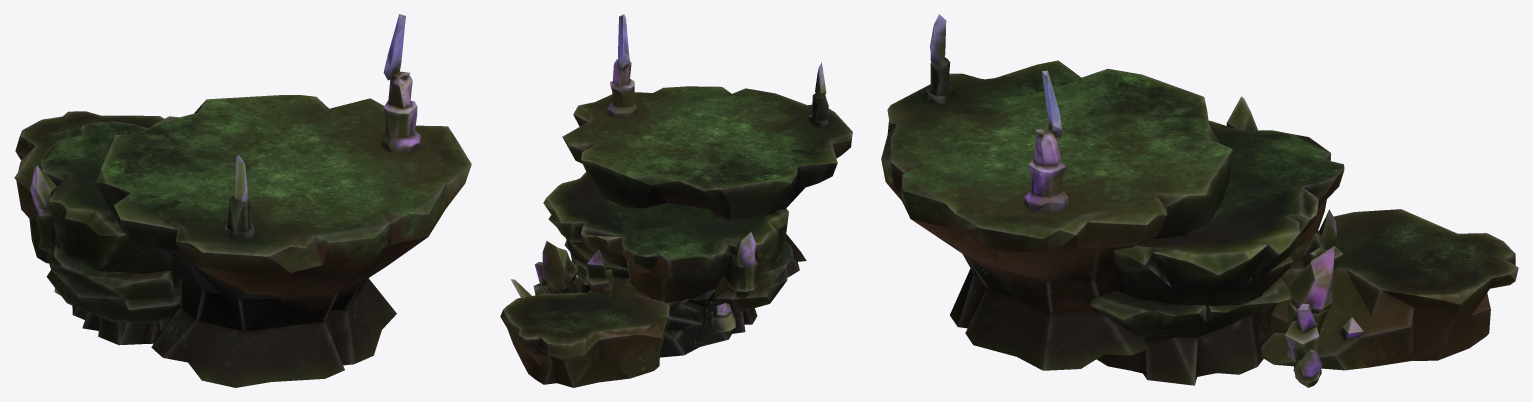
The model's file is FlooorPlatform6.fbx.
3 views of the same model, side by side, from view 1: azimuth 30°, elevation 25°; view 2: azimuth 150°, elevation 25°; view 3: azimuth 270°, elevation 25° (orthographic). The views are drawn at different scales.
Visible parts, largest first — view 1: FlooorPlatform.007; view 2: FlooorPlatform.007; view 3: FlooorPlatform.007.
Boxes of the visible parts, left/top/right/bottom form: FlooorPlatform.007: left=14, top=14, right=471, bottom=387; FlooorPlatform.007: left=500, top=14, right=852, bottom=387; FlooorPlatform.007: left=881, top=14, right=1518, bottom=387.
Bounding box in the file's own units: 24.07 × 21.68 × 38.43.
1 material, 1 textured.
